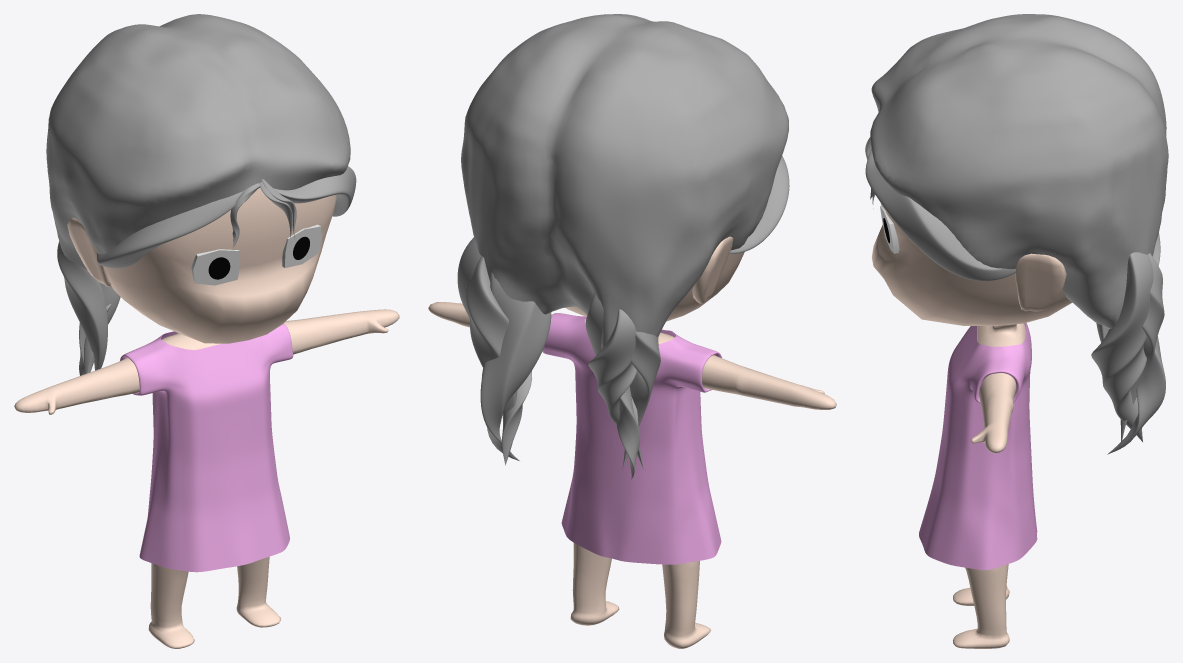
File: Laurel2.0.fbx
3 renders of one model, left to right at view 1: azimuth 30°, elevation 25°; view 2: azimuth 150°, elevation 25°; view 3: azimuth 270°, elevation 25°, orthographic. The views are drawn at different scales.
Visible parts, largest first — view 1: hair, body, dress, NurbsPath.004, NurbsPath.009, pCube9, NurbsPath.003, pCylinder1, NurbsPath.008; view 2: hair, dress, body, NurbsPath.005, NurbsPath.010, NurbsPath.006, NurbsPath.008, NurbsPath.007, NurbsPath.009, NurbsPath.004; view 3: hair, dress, body, NurbsPath.007, NurbsPath.003, NurbsPath.005, NurbsPath.006.
Part boxes in pixels (left/top/right/bottom): hair: left=46, top=14, right=350, bottom=269; body: left=14, top=188, right=399, bottom=648; dress: left=120, top=323, right=293, bottom=572; NurbsPath.004: left=97, top=190, right=243, bottom=268; NurbsPath.009: left=57, top=241, right=107, bottom=370; pCube9: left=191, top=224, right=321, bottom=285; NurbsPath.003: left=273, top=166, right=356, bottom=216; pCylinder1: left=208, top=236, right=309, bottom=279; NurbsPath.008: left=79, top=282, right=120, bottom=375; hair: left=461, top=14, right=788, bottom=349; dress: left=542, top=313, right=721, bottom=564; body: left=428, top=236, right=836, bottom=648; NurbsPath.005: left=480, top=272, right=551, bottom=460; NurbsPath.010: left=588, top=309, right=643, bottom=468; NurbsPath.006: left=466, top=256, right=517, bottom=416; NurbsPath.008: left=585, top=293, right=640, bottom=479; NurbsPath.007: left=457, top=237, right=532, bottom=465; NurbsPath.009: left=622, top=331, right=660, bottom=471; NurbsPath.004: left=729, top=155, right=789, bottom=253; hair: left=870, top=14, right=1168, bottom=328; dress: left=919, top=323, right=1037, bottom=570; body: left=871, top=203, right=1072, bottom=648; NurbsPath.007: left=1091, top=252, right=1153, bottom=441; NurbsPath.003: left=865, top=149, right=1015, bottom=281; NurbsPath.005: left=1107, top=336, right=1165, bottom=454; NurbsPath.006: left=1120, top=253, right=1164, bottom=441.
Size of the model in its own units: 720 by 1037 by 483.
